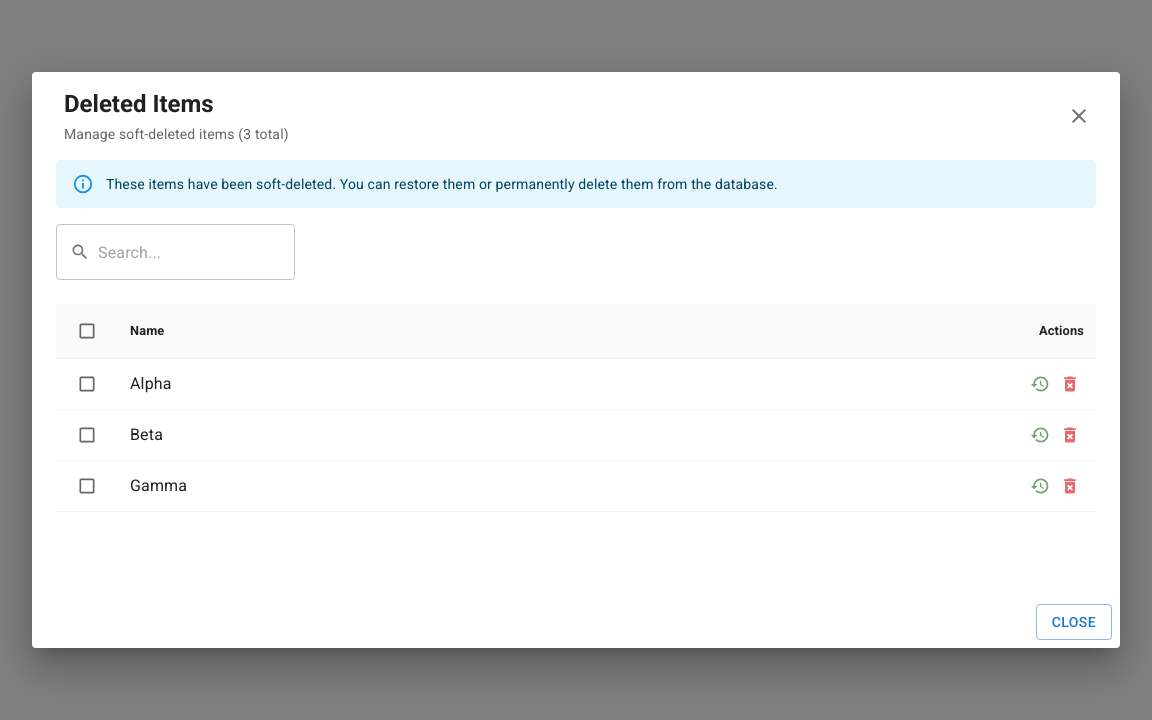
Test case: GenericDeletedDialog › clears the search term from the search control
Type "alpha" into the field with placeholder "Search..." at (196, 252), box [98,224,295,280]
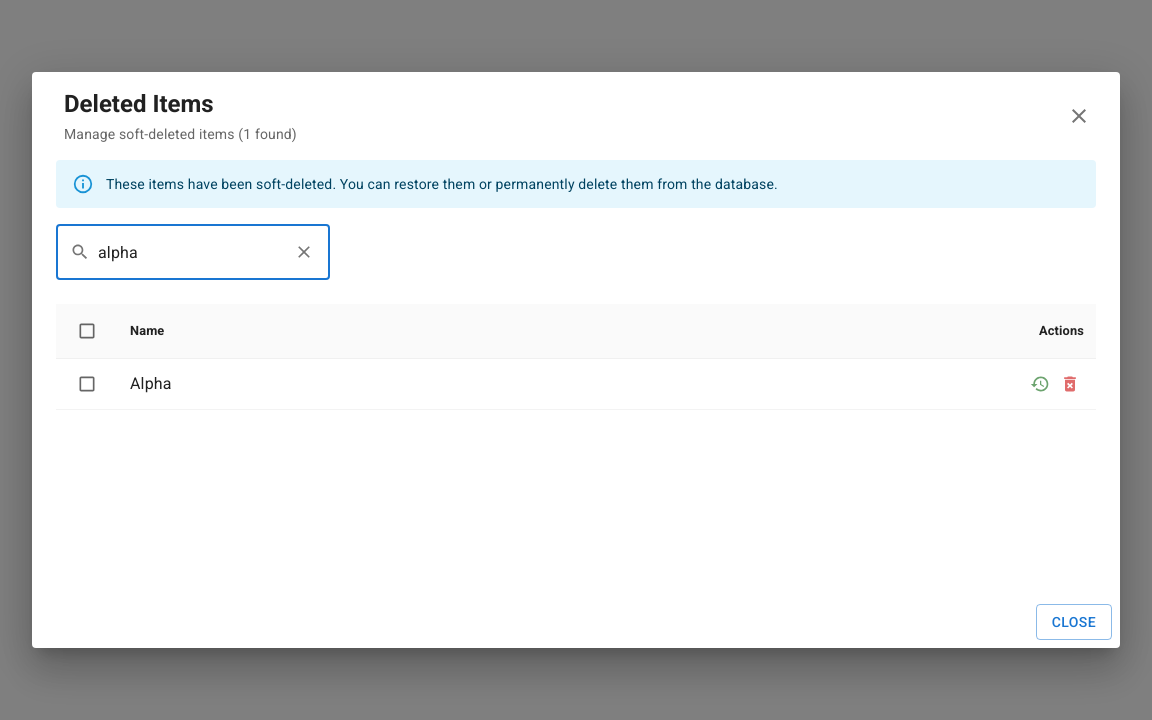
expect the text "Beta" is gone: met
Click the button named "clear search" at (304, 252), box [289,237,319,267]
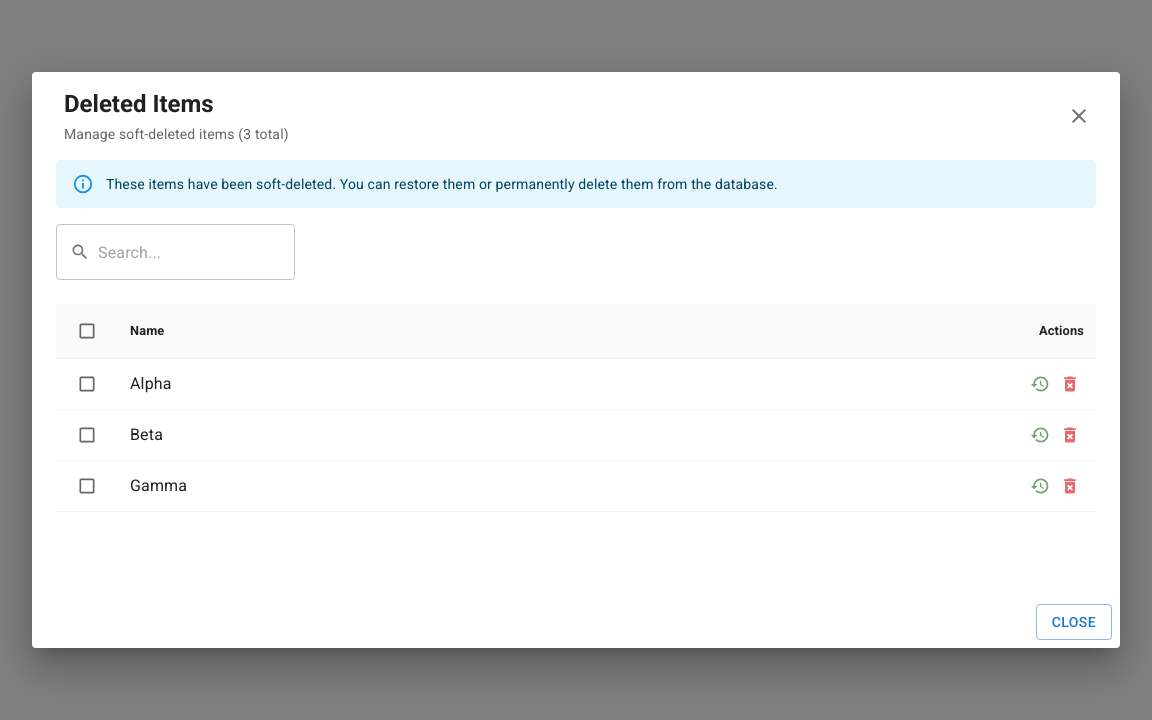
expect the field with placeholder "Search..." is empty: met, box [98,224,295,280]
expect the text "Beta" is shown: met, box [130,425,163,444]
expect the text "Gamma" is shown: met, box [130,476,187,495]
